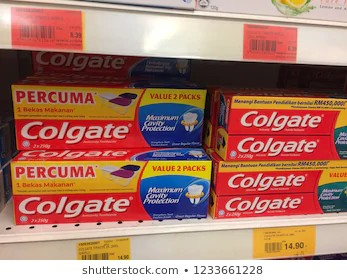colgate-family: (13, 149, 215, 219), (7, 83, 209, 147), (213, 89, 347, 160), (216, 163, 347, 218)
